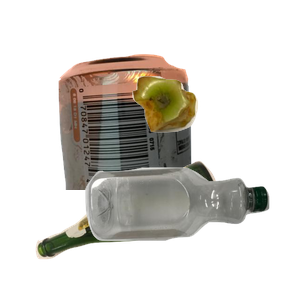glass: (33, 158, 246, 300)
metal: (56, 52, 242, 232)
plastic: (83, 165, 300, 300)
trash: (130, 74, 300, 199)
